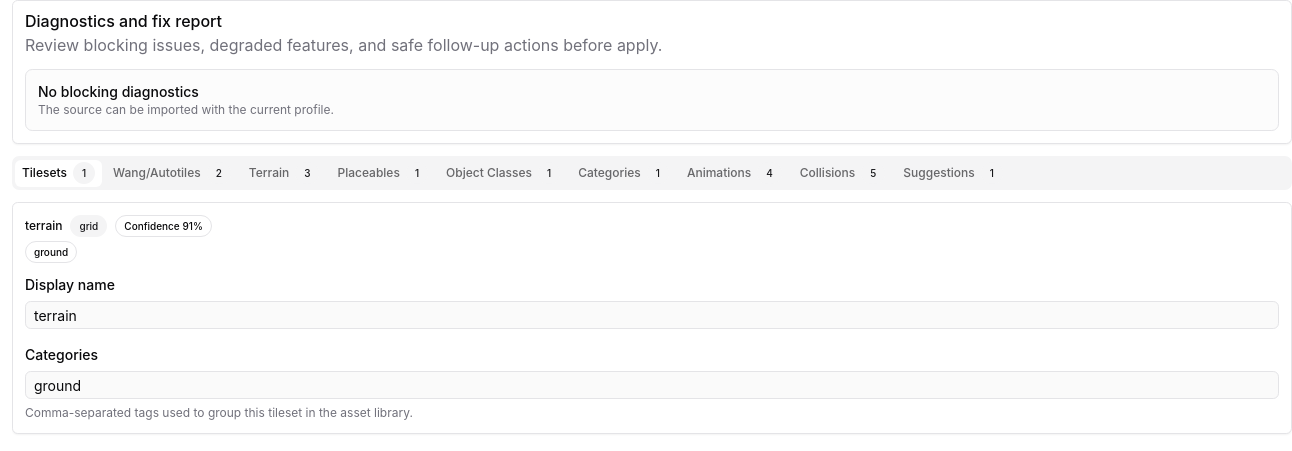
Test case: Tiled import wizard steps › renders all populated Mapping Review tabs with counts and confidence badges
Expected: the tab "Tilesets 1" is shown, [15,160,102,186]
Expected: the tab "Terrain 3" is shown, [242,160,326,186]
Click the tab "Suggestions 1" at [953, 173], box [896,160,1010,186]
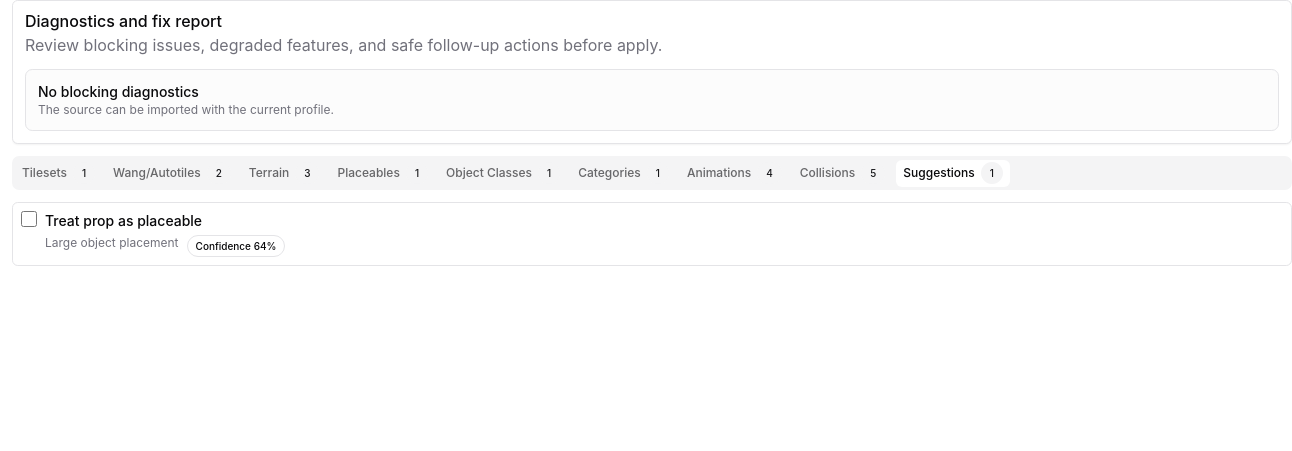
Expected: the text "Confidence 64%" is shown, [186,235,285,257]
